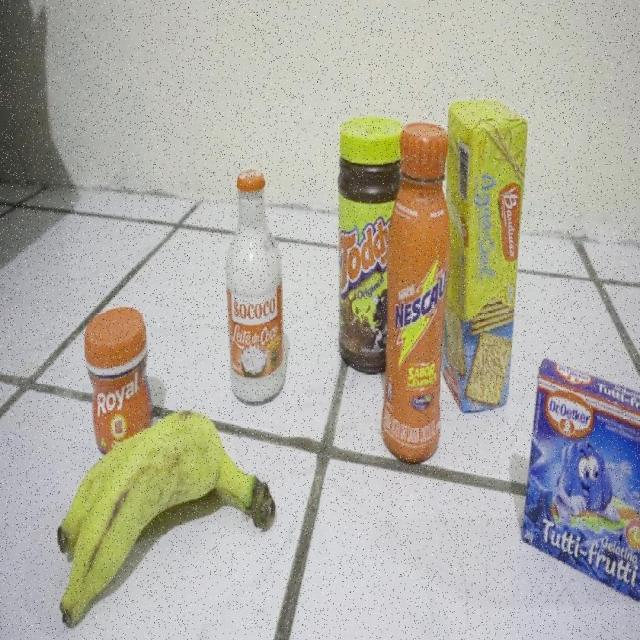Banana: (42, 432, 282, 616)
ChocolateMilk: (391, 121, 440, 485)
ChocolatePowder: (341, 125, 394, 373)
CoconutMilk: (220, 155, 297, 419)
Cracker: (444, 102, 528, 419)
Gelatine: (518, 356, 640, 605)
Yeast: (69, 303, 157, 435)
